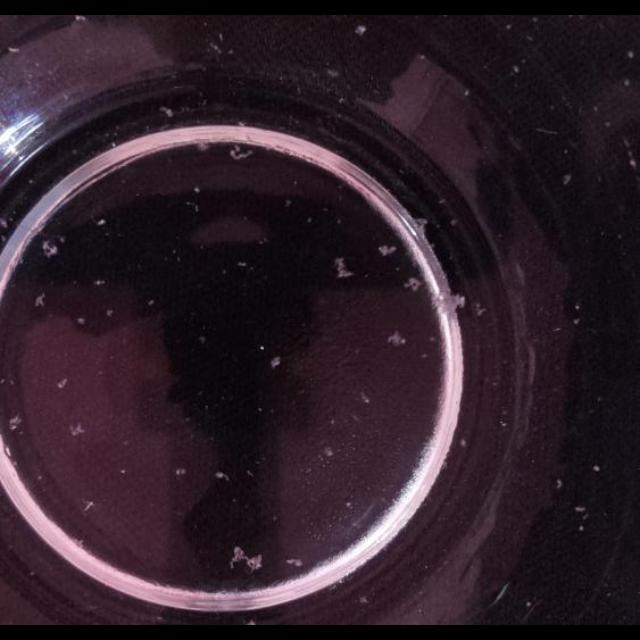Fibre: (230, 546, 262, 574), (334, 258, 356, 278), (228, 146, 254, 160), (42, 240, 59, 258), (388, 330, 407, 346), (403, 276, 422, 292), (8, 414, 22, 432), (378, 244, 397, 256), (71, 422, 87, 436), (34, 293, 46, 307), (269, 356, 281, 369)
microbeads: (450, 292, 466, 308), (208, 41, 222, 55), (160, 106, 174, 118), (286, 558, 302, 568), (359, 392, 371, 404), (83, 499, 95, 511), (326, 67, 339, 77), (323, 446, 335, 456), (562, 174, 572, 186), (56, 378, 68, 388), (216, 471, 228, 481), (176, 467, 187, 477), (476, 306, 486, 316), (284, 198, 292, 208), (459, 438, 467, 448), (97, 219, 107, 227), (556, 478, 564, 488), (512, 64, 520, 74), (626, 50, 634, 60), (500, 418, 508, 428), (627, 158, 635, 168), (76, 316, 85, 324), (94, 278, 106, 284), (359, 596, 368, 604), (106, 308, 114, 316), (198, 336, 206, 344), (193, 186, 201, 194), (148, 299, 156, 307), (345, 500, 353, 508), (328, 418, 336, 426), (421, 352, 429, 360), (247, 470, 255, 478), (237, 262, 247, 268), (635, 158, 640, 168), (574, 317, 580, 325), (120, 468, 126, 476), (574, 302, 580, 310), (592, 466, 600, 472), (464, 89, 470, 97), (238, 121, 246, 127), (579, 526, 585, 532), (525, 602, 531, 608)
